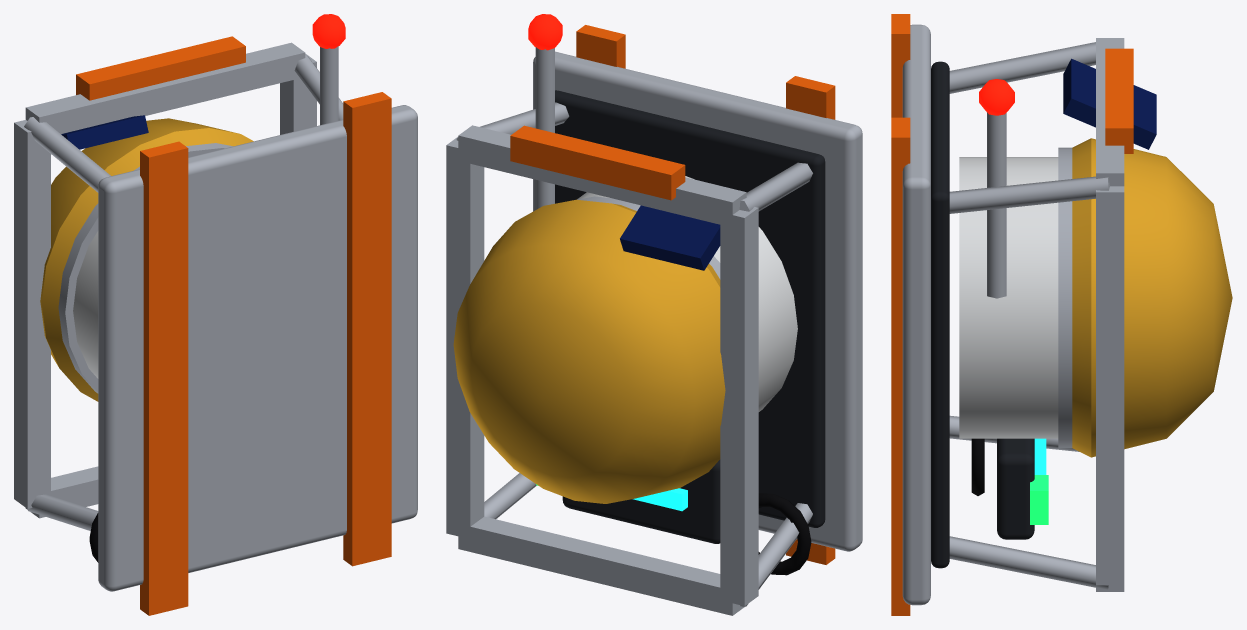
Rendered from seismometer_backpack.glb.
3 views of the same model, side by side, from view 1: azimuth 30°, elevation 25°; view 2: azimuth 150°, elevation 25°; view 3: azimuth 270°, elevation 25° (orthographic). The views are drawn at different scales.
Visible parts, largest first — view 1: SeisBack_Body; view 2: SeisBack_Body; view 3: SeisBack_Body.
Boxes of the visible parts, left/top/right/bottom form: SeisBack_Body: left=14, top=14, right=417, bottom=615; SeisBack_Body: left=446, top=14, right=862, bottom=615; SeisBack_Body: left=891, top=14, right=1232, bottom=615.
Size of the model in its own units: 0.4 by 0.62 by 0.362.
